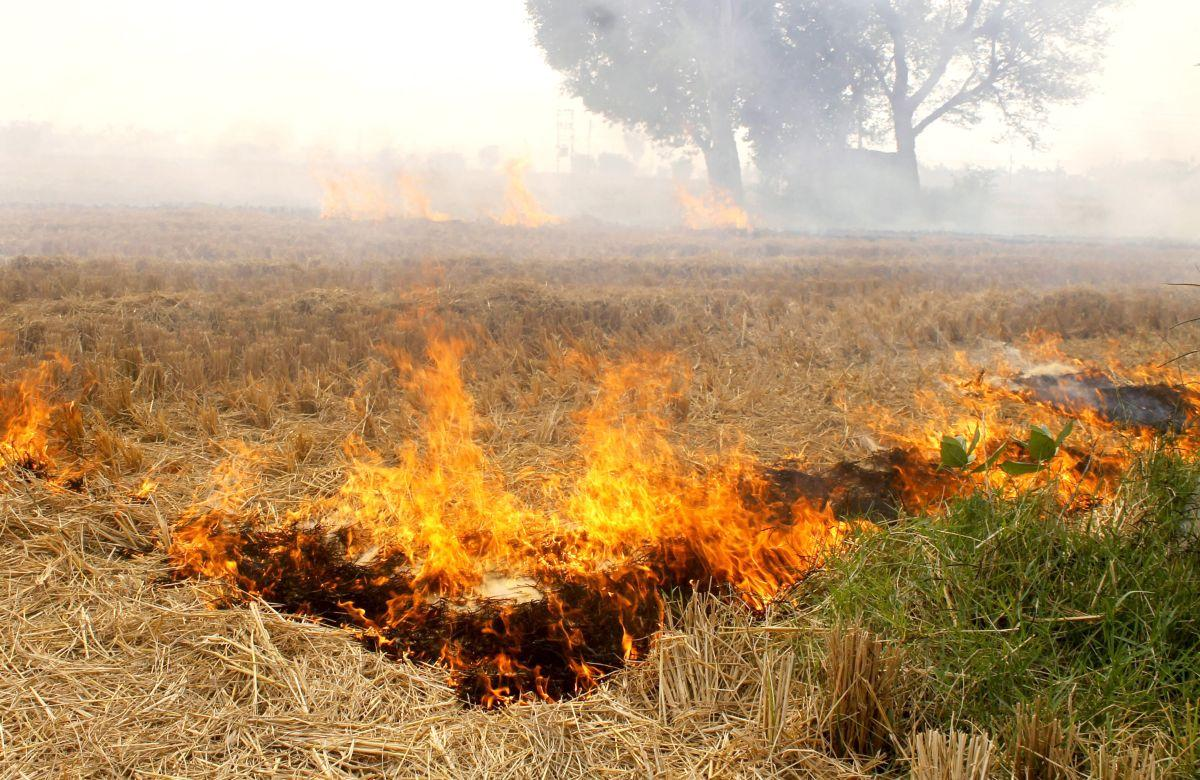fire: (558, 345, 849, 599), (338, 285, 555, 585), (877, 344, 1200, 515), (162, 449, 320, 604), (426, 586, 552, 708), (0, 340, 90, 487), (325, 587, 427, 649), (553, 602, 602, 694), (670, 186, 757, 234), (500, 168, 551, 230), (319, 183, 379, 224), (610, 608, 650, 664), (402, 177, 448, 222)
smoke: (746, 2, 1200, 243), (0, 0, 317, 240), (322, 0, 739, 177)
